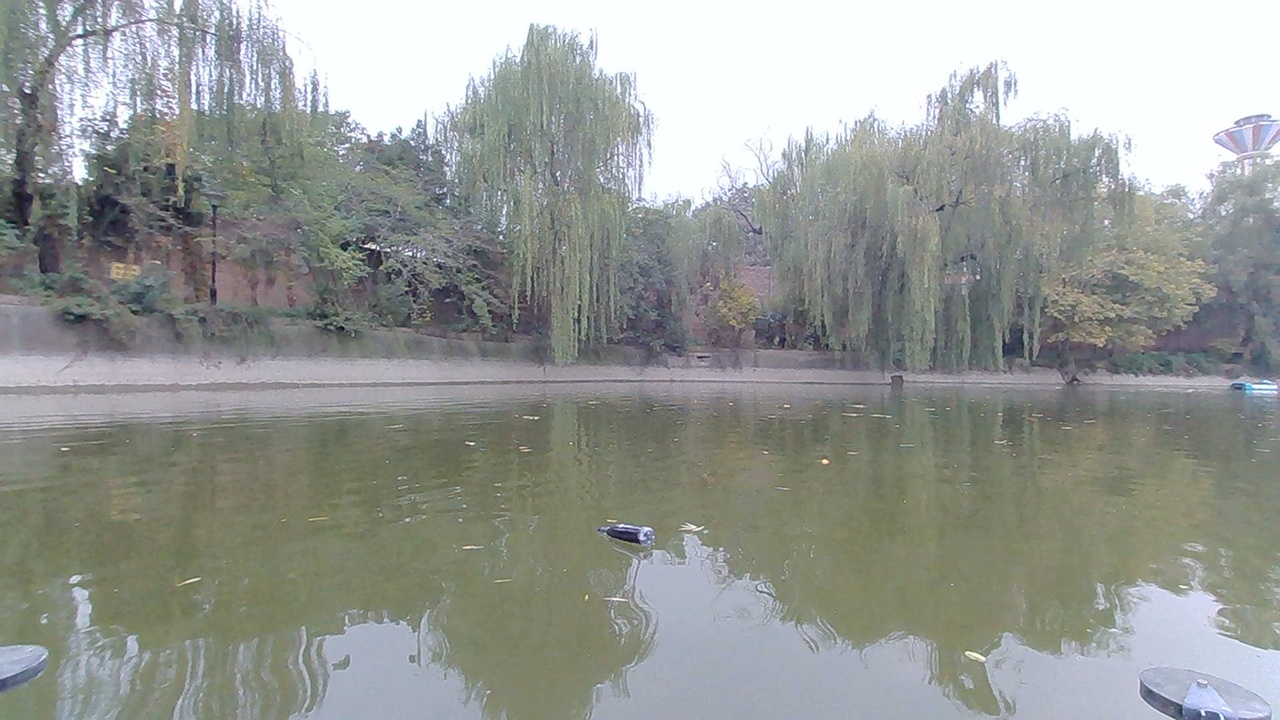bottle: (606, 521, 660, 555)
